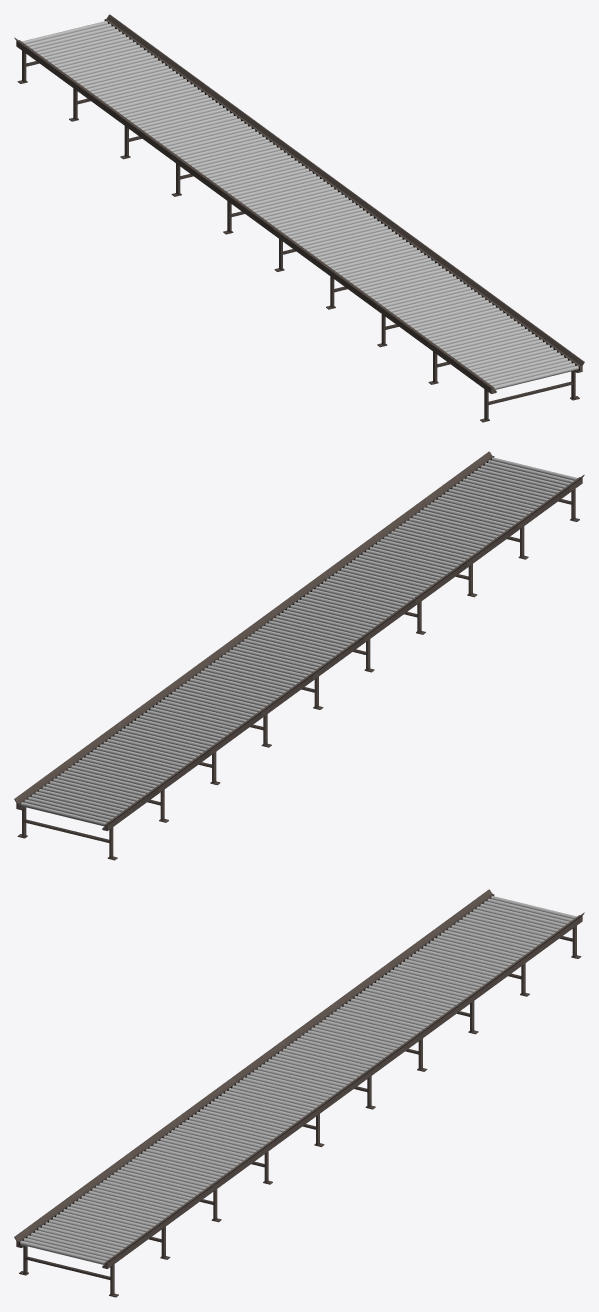
Rendered from ConveyorBelt2.fbx.
3 views of the same model, one above another, from view 1: azimuth 30°, elevation 25°; view 2: azimuth 150°, elevation 25°; view 3: azimuth 330°, elevation 25° (orthographic).
Visible parts, largest first — view 1: BeltBase; view 2: BeltBase; view 3: BeltBase.
Boxes of the visible parts, x1=… form: BeltBase: x1=14, y1=14, x2=584, y2=422; BeltBase: x1=14, y1=451, x2=584, y2=860; BeltBase: x1=14, y1=889, x2=584, y2=1297.
Size of the model in its own units: 108 by 43.43 by 912.
